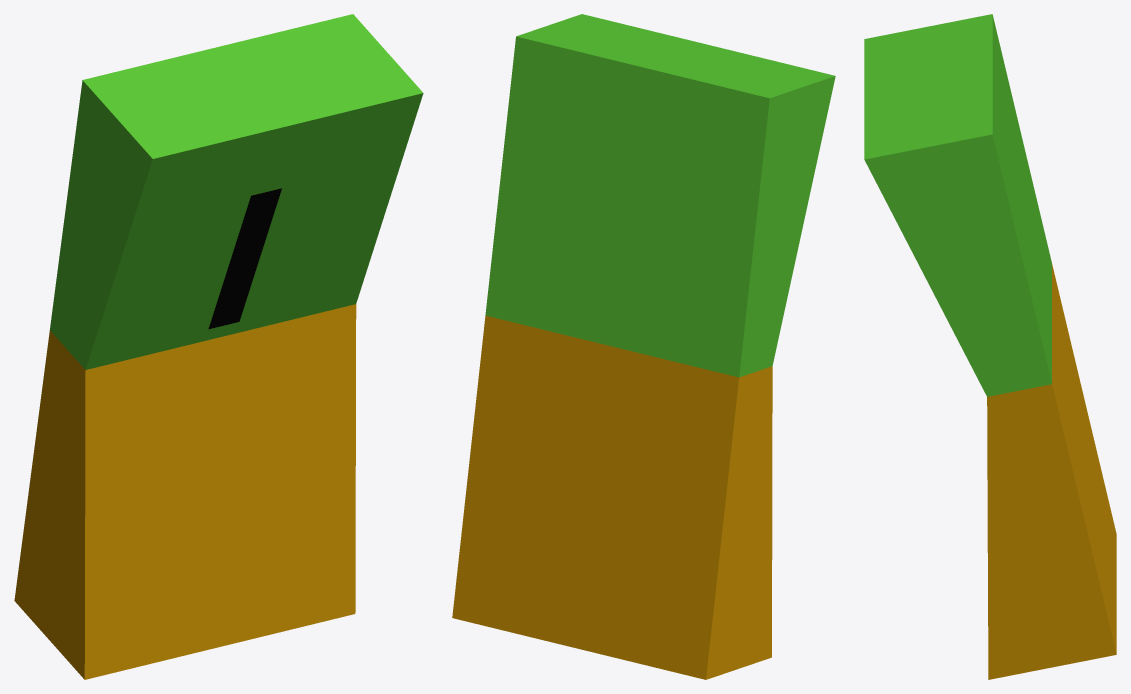
The model's file is on_body.fbx.
3 views of the same model, side by side, from view 1: azimuth 30°, elevation 25°; view 2: azimuth 150°, elevation 25°; view 3: azimuth 270°, elevation 25° (orthographic). The views are drawn at different scales.
Visible parts, largest first — view 1: off; view 2: off; view 3: off.
Boxes of the visible parts, left/top/right/bottom form: off: left=14, top=14, right=423, bottom=679; off: left=452, top=14, right=835, bottom=679; off: left=864, top=14, right=1116, bottom=679.
Bounding box in the file's own units: 3.53 × 7.45 × 3.12.
Materials: 1 (1 with a texture image).
